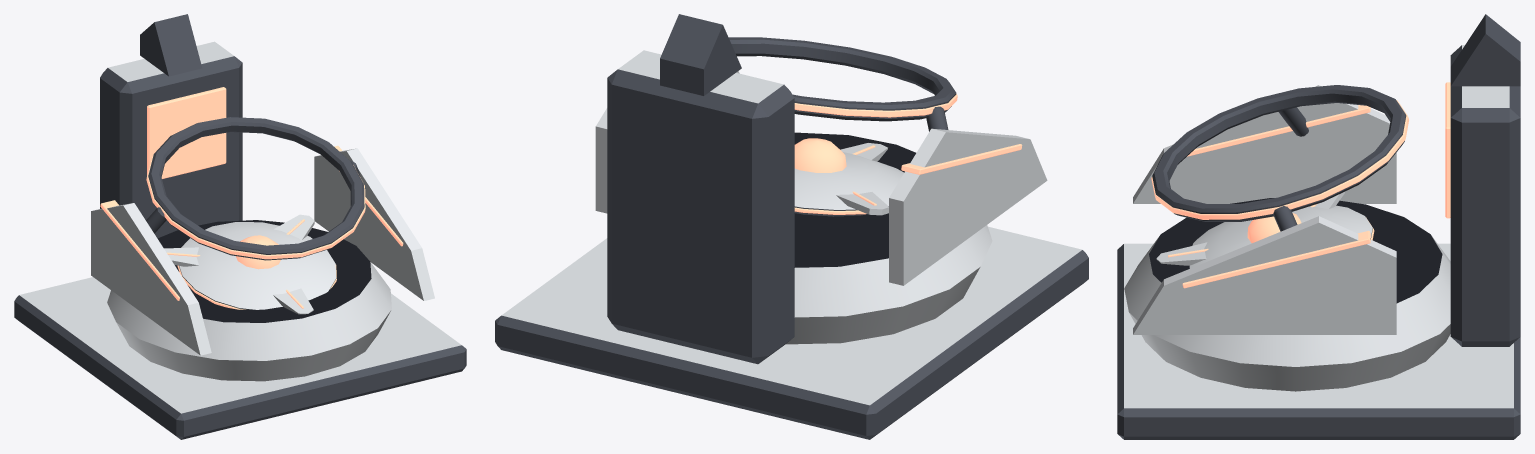
Rendered from R4X_ExplosiveTrapDeployer_LOD1.fbx.
The picture shows the model from 3 angles, left to right: view 1: azimuth 30°, elevation 25°; view 2: azimuth 150°, elevation 25°; view 3: azimuth 270°, elevation 25°; orthographic projection. The views are drawn at different scales.
Visible parts, largest first — view 1: R4X_ExplosiveTrapDeployer_LOD1; view 2: R4X_ExplosiveTrapDeployer_LOD1; view 3: R4X_ExplosiveTrapDeployer_LOD1.
Part boxes in pixels (x1,y1,x2,y2): R4X_ExplosiveTrapDeployer_LOD1: [14, 14, 466, 439]; R4X_ExplosiveTrapDeployer_LOD1: [495, 14, 1088, 439]; R4X_ExplosiveTrapDeployer_LOD1: [1117, 14, 1520, 439].
Size of the model in its own units: 0.52 by 0.475 by 0.52.
